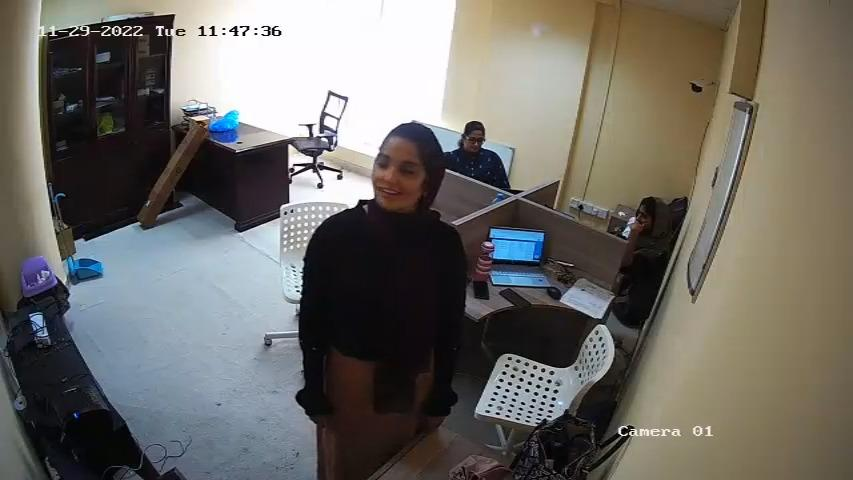no_apron: (323, 223, 438, 378)
